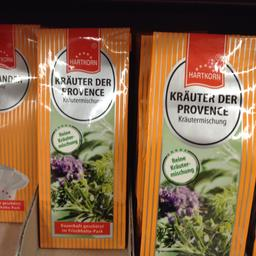spices: (138, 30, 254, 255), (37, 26, 128, 249)
